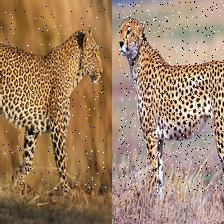Cheetha: (119, 1, 224, 193), (0, 6, 105, 190)
